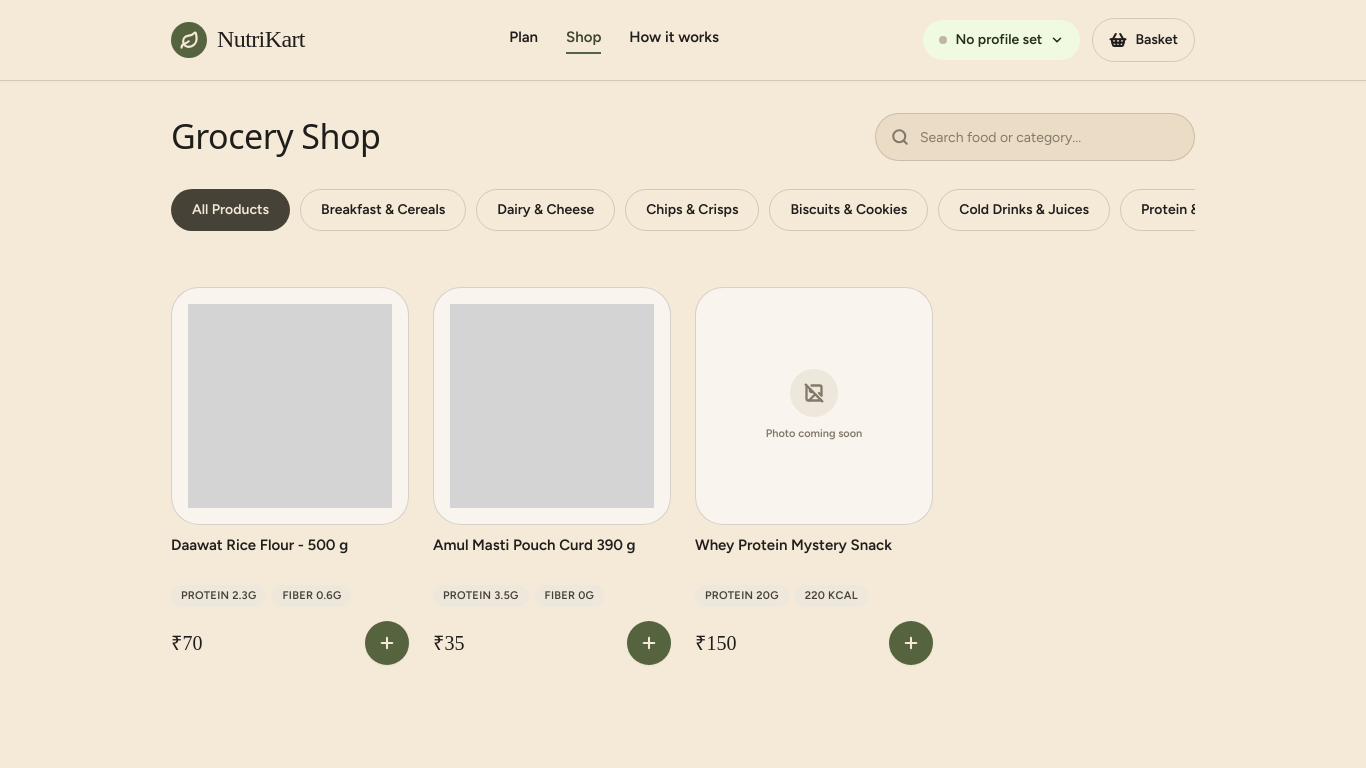
Test: Shop catalogue and filter experience › displays empty state when search term has no match
Expected: the link "Daawat Rice Flour - 500 g" is shown, x1=171 y1=536 x2=348 y2=554
Type "NonExistentUnobtainiumItem123" into the field with placeholder "Search food or category..." at [1035, 137], box x1=875 y1=113 x2=1195 y2=161
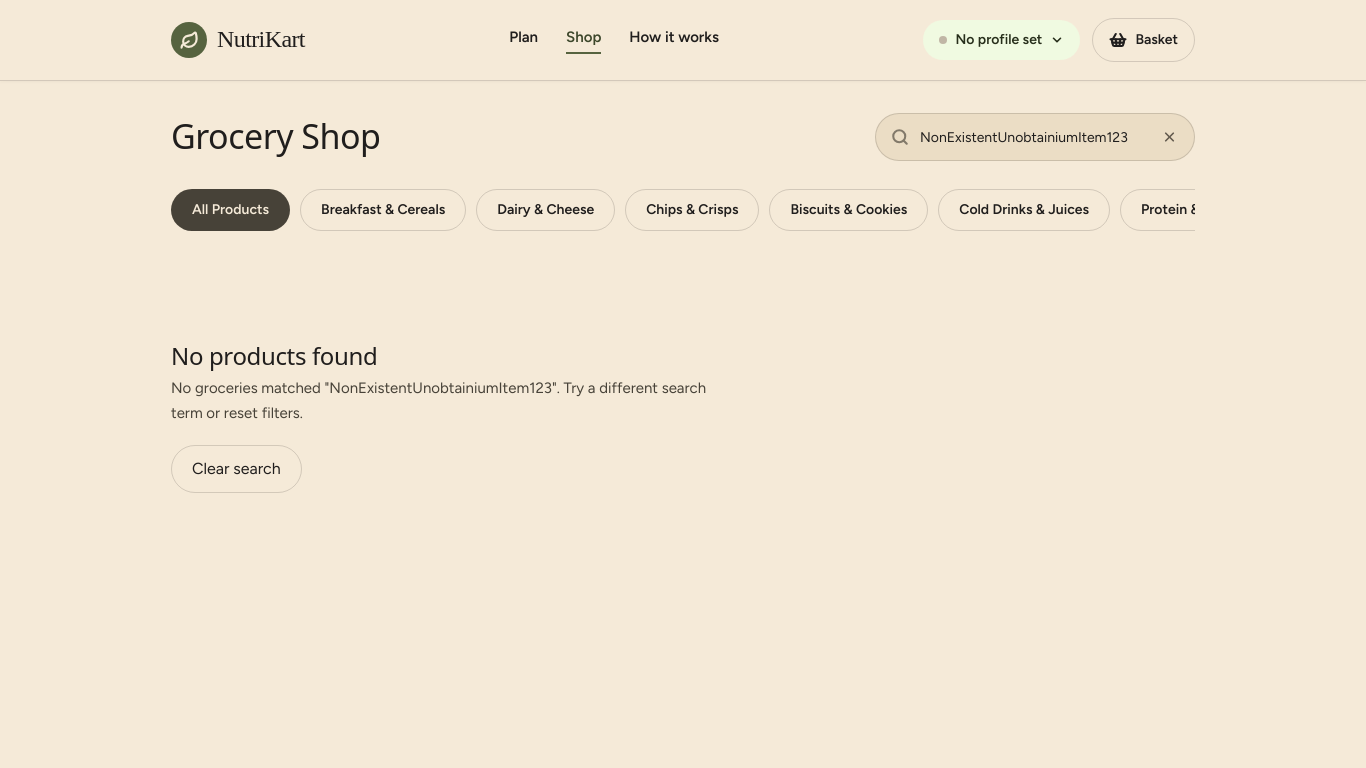
Expected: the heading "No products found" is shown, x1=171 y1=343 x2=377 y2=368
Click the button "Clear search" at [236, 469], box x1=171 y1=445 x2=302 y2=493
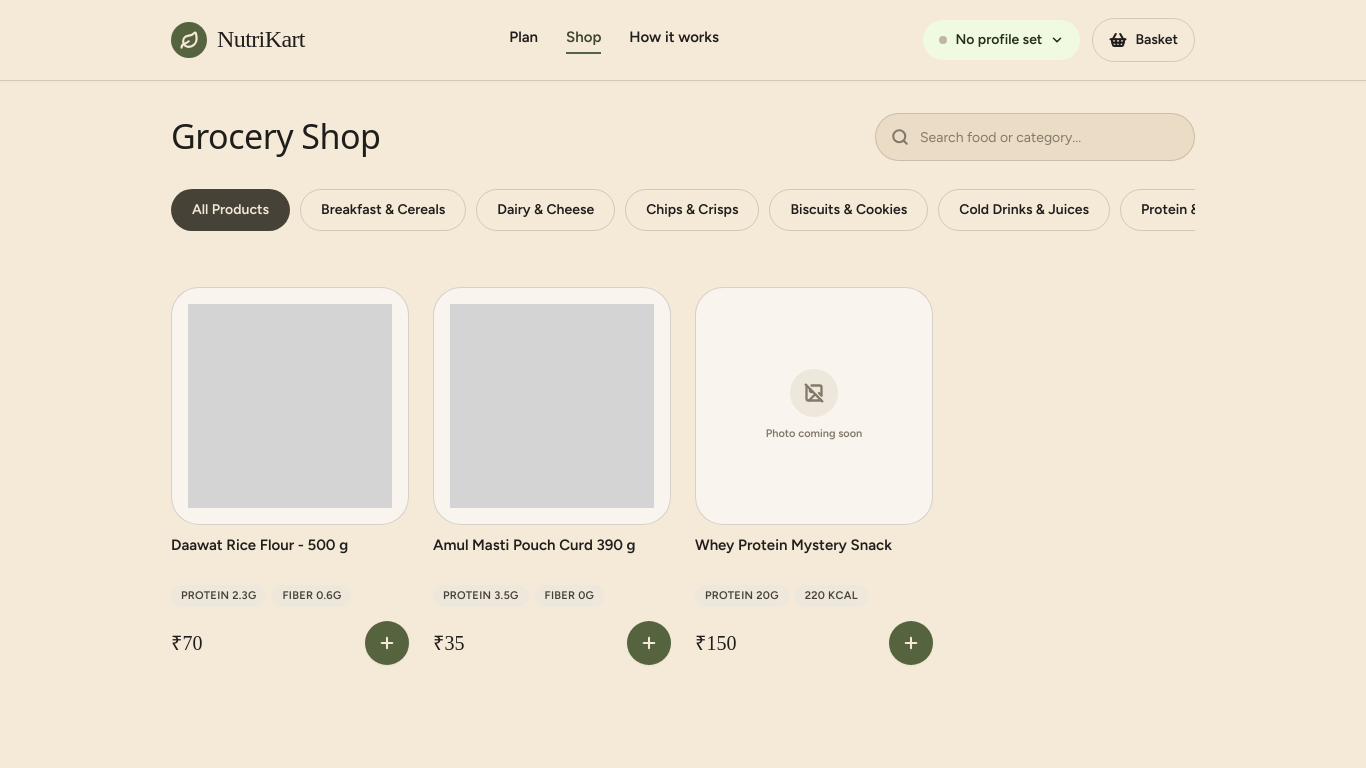
Expected: the link "Daawat Rice Flour - 500 g" is shown, x1=171 y1=536 x2=348 y2=554
